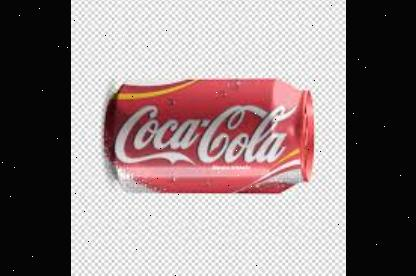Can: (110, 78, 313, 193)
